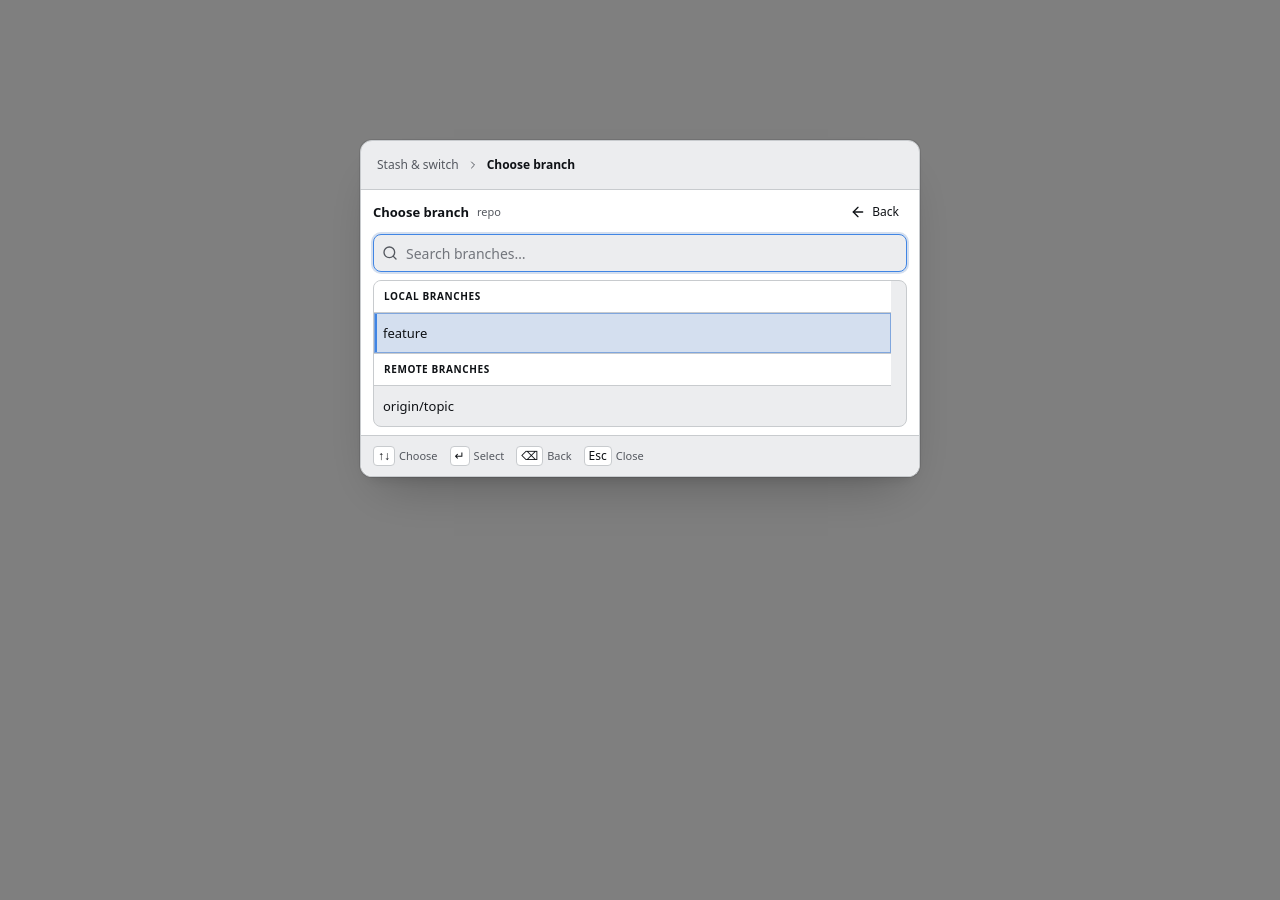
AppCommandPalette › pressing the action breadcrumb returns from the stash branch step
The image size is (1280, 900).
Click the button with aria-label "Action: Stash & switch". click: (418, 165)
box: x1=373 y1=145 x2=463 y2=185
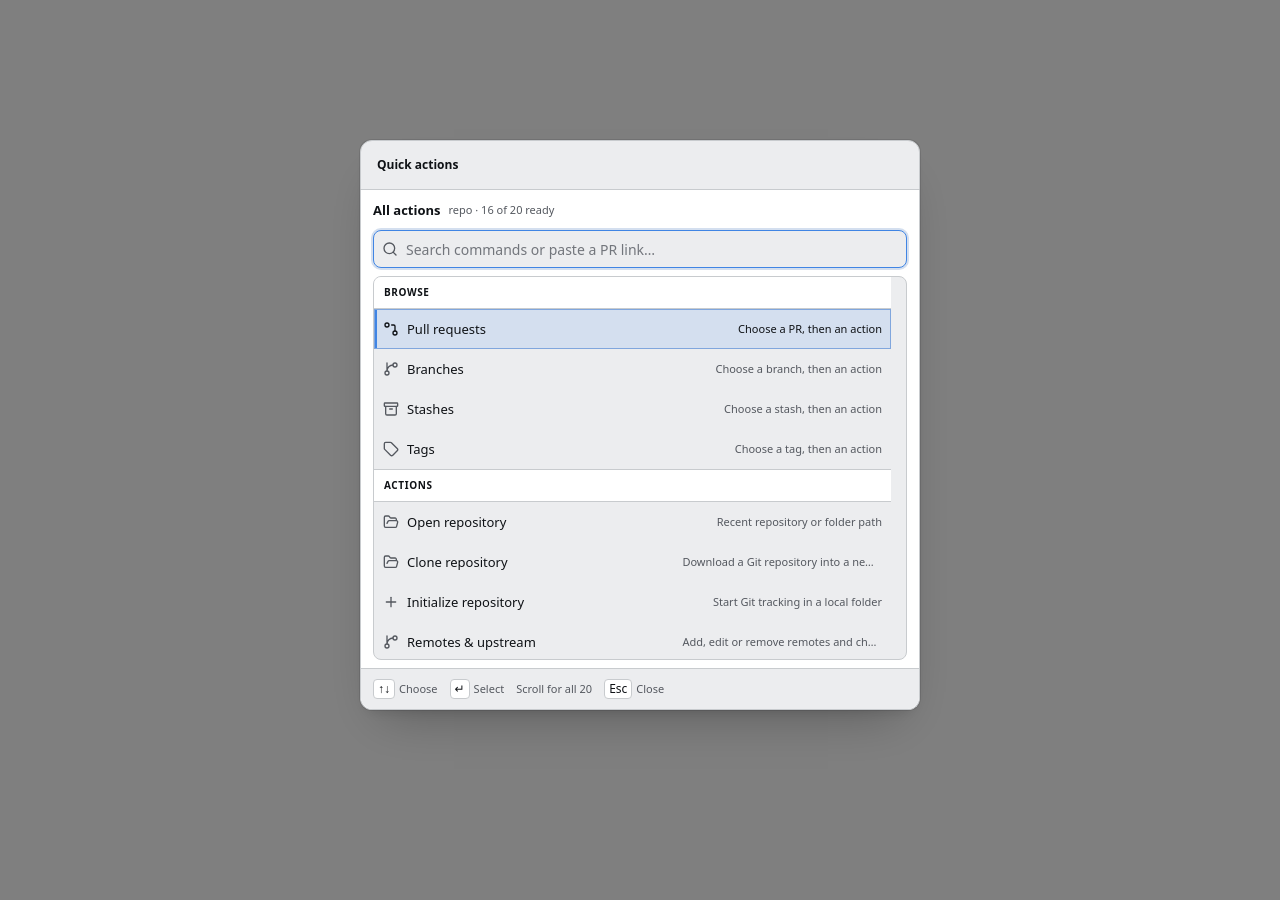
Check: the element named "Actions" is shown, box x1=373 y1=276 x2=907 y2=660
